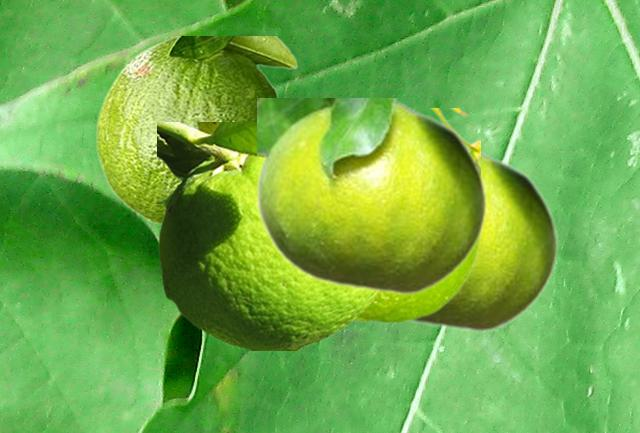dalandan: (157, 122, 380, 349), (257, 98, 487, 295), (95, 36, 297, 227), (401, 146, 558, 332), (353, 108, 479, 322)
